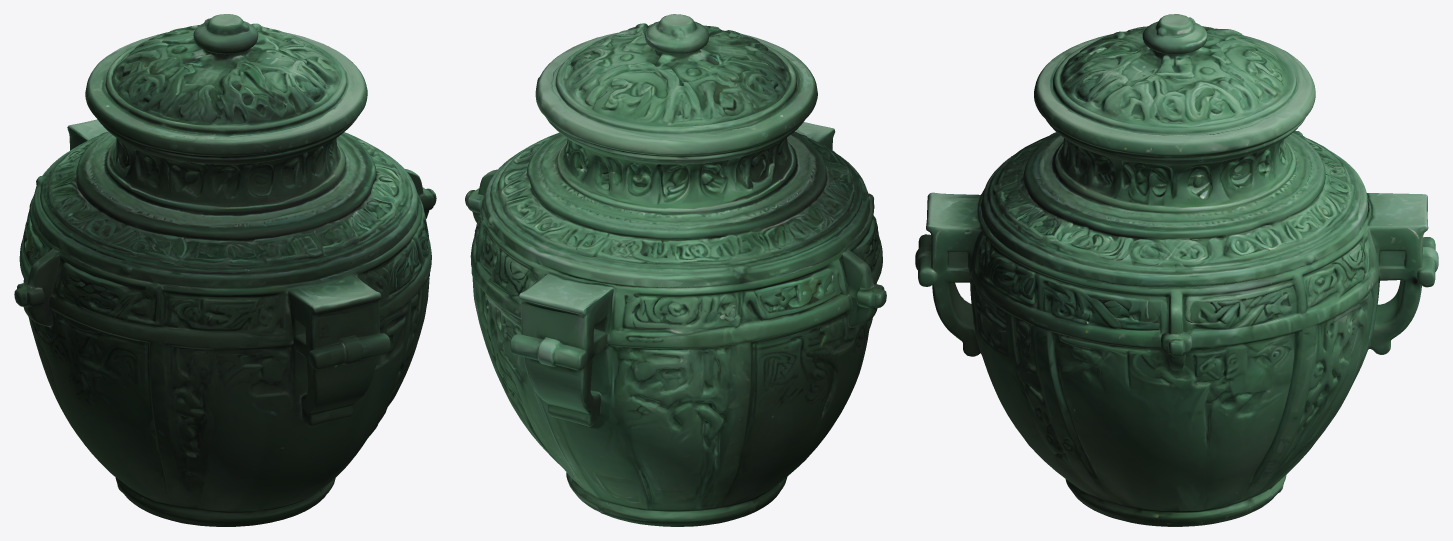
File: prop-urn-jade.glb
The picture shows the model from 3 angles, left to right: view 1: azimuth 30°, elevation 25°; view 2: azimuth 150°, elevation 25°; view 3: azimuth 270°, elevation 25°; orthographic projection.
Visible parts, largest first — view 1: tripo_node_2db5d54a-a329-4188-8507-116707a2724b; view 2: tripo_node_2db5d54a-a329-4188-8507-116707a2724b; view 3: tripo_node_2db5d54a-a329-4188-8507-116707a2724b.
Boxes of the visible parts, left/top/right/bottom form: tripo_node_2db5d54a-a329-4188-8507-116707a2724b: left=14, top=14, right=436, bottom=526; tripo_node_2db5d54a-a329-4188-8507-116707a2724b: left=465, top=14, right=886, bottom=526; tripo_node_2db5d54a-a329-4188-8507-116707a2724b: left=915, top=14, right=1438, bottom=526.
Bounding box in the file's own units: 1.11 × 1.2 × 1.2.
1 material, 1 textured.
